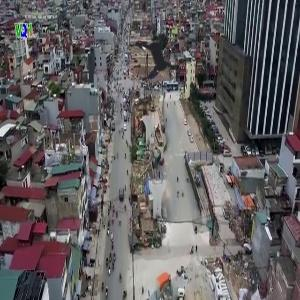drone: (107, 9, 209, 111)
